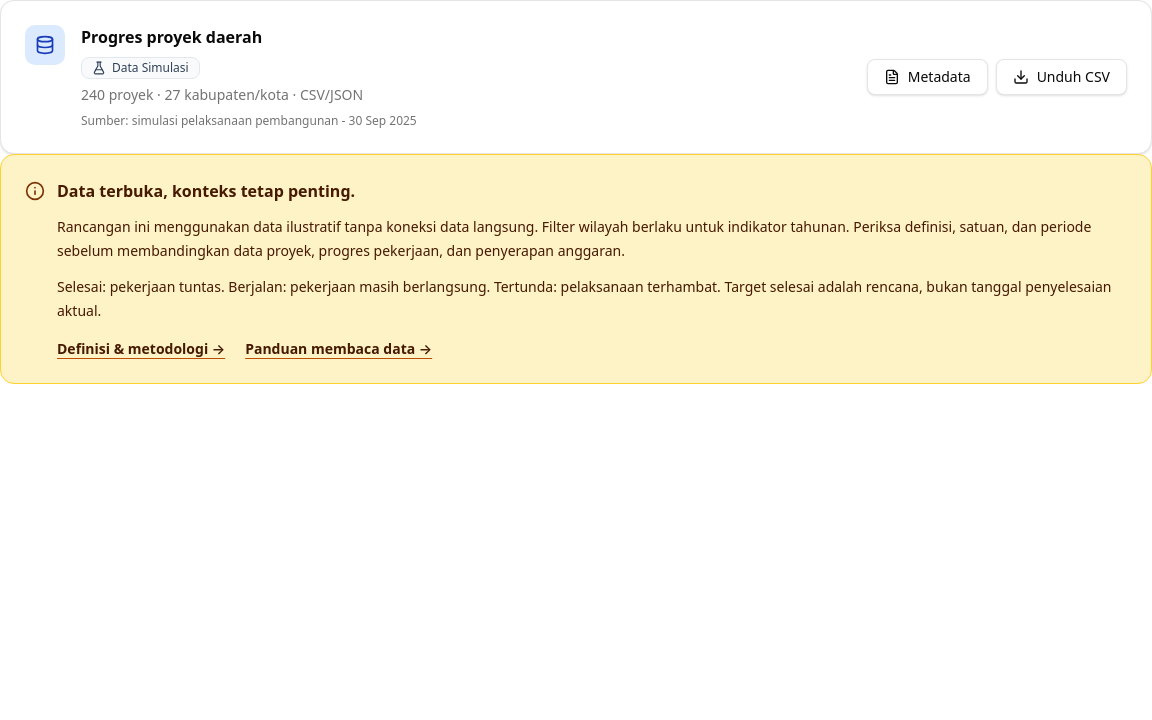
Test: DatasetInformation › opens metadata structure and provides metadata and JSON downloads
The width and height of the screenshot is (1152, 720).
Click the button "Metadata". click: (927, 77)
box: [867,59,988,95]
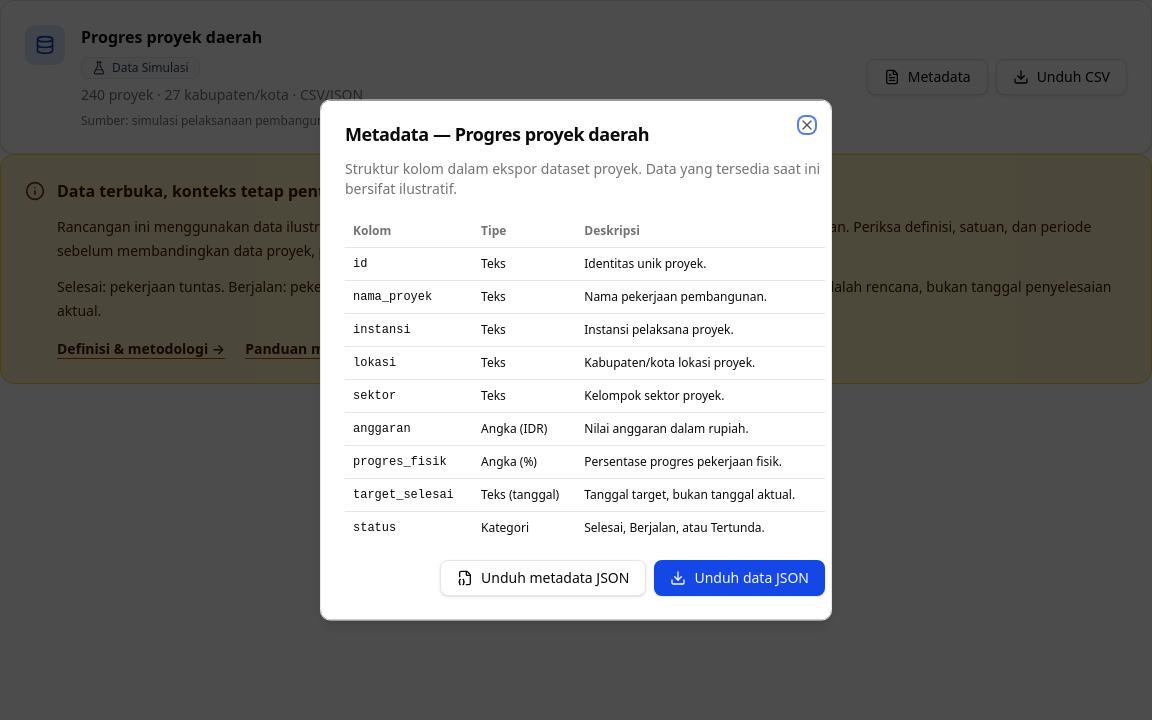
Result: the dialog "Metadata — Progres proyek daerah" is shown at [320,100,832,620]
Result: the row "progres_fisik Angka (%) Persentase progres pekerjaan fisik." is shown at [345,445,825,478]
